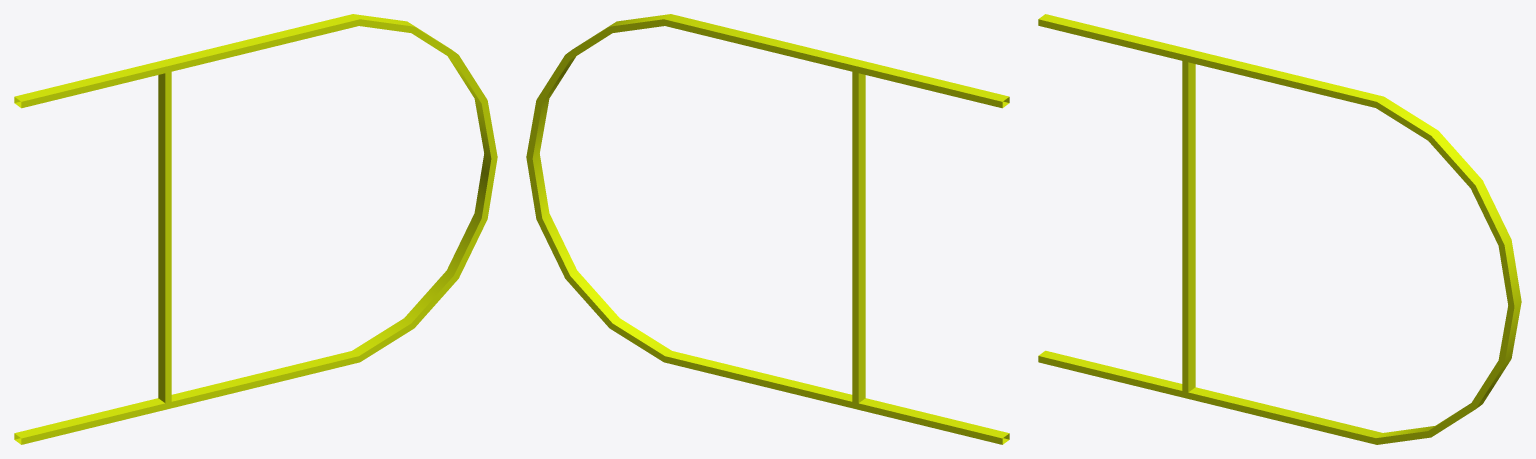
The model's file is Support_01.FBX.
3 renders of one model, left to right at view 1: azimuth 30°, elevation 25°; view 2: azimuth 150°, elevation 25°; view 3: azimuth 330°, elevation 25°, orthographic.
Parts seen in each view (by area): view 1: Support_01_Low; view 2: Support_01_Low; view 3: Support_01_Low.
Boxes of the visible parts, box(x1,y1,x2,y2) form: Support_01_Low: box(14, 14, 497, 444); Support_01_Low: box(526, 14, 1009, 444); Support_01_Low: box(1038, 14, 1521, 444).
Size of the model in its own units: 45.99 by 31.67 by 1.2.
